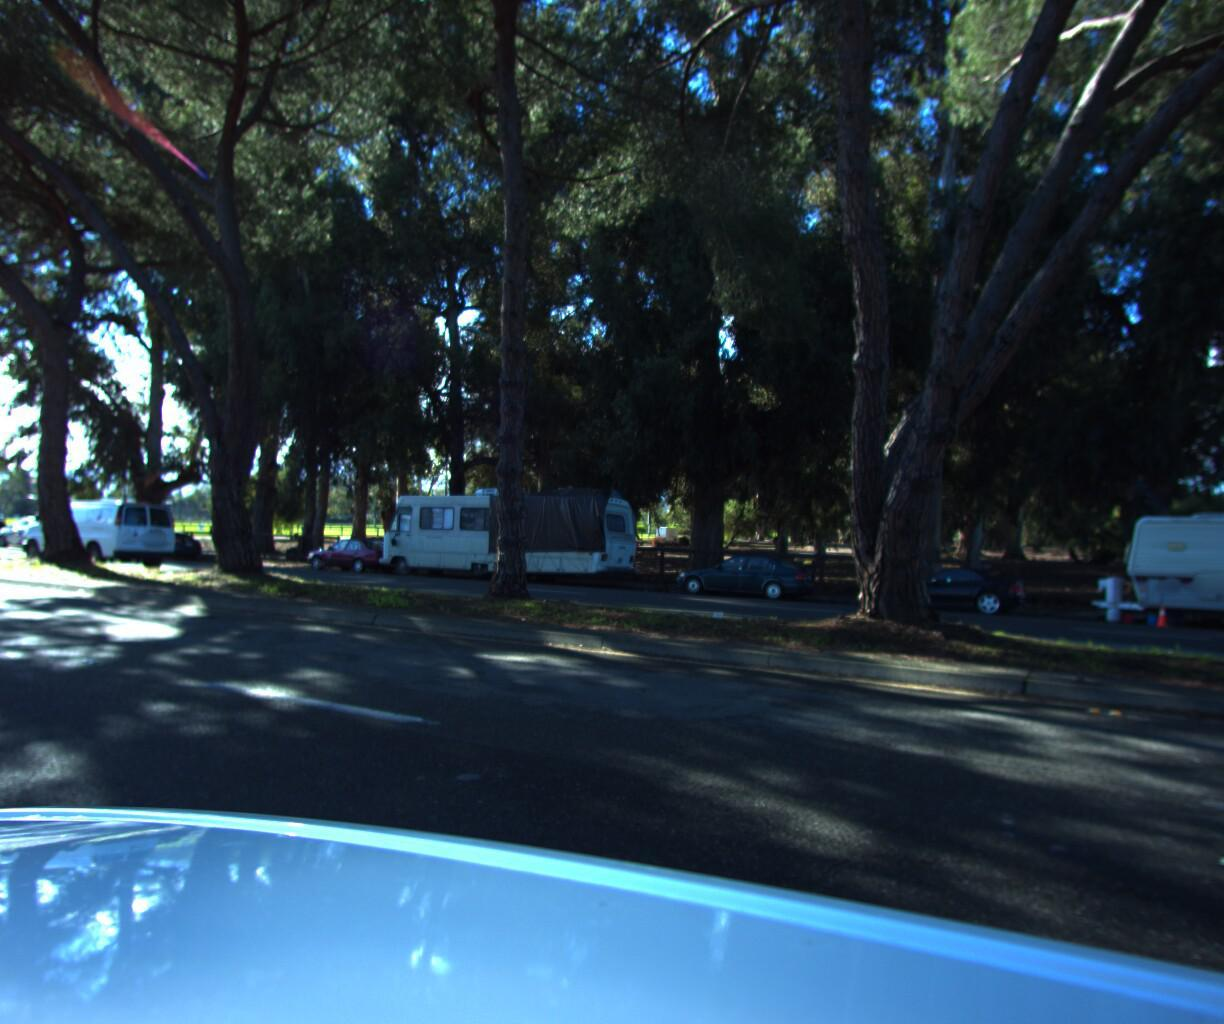car: (12, 493, 189, 563), (857, 556, 1030, 619), (662, 545, 825, 601), (298, 531, 409, 570), (114, 523, 208, 557), (0, 509, 13, 542)
other_vehicle: (371, 479, 646, 585), (1077, 495, 1224, 656)
